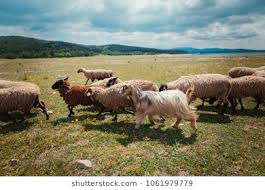sheep: (118, 83, 195, 127), (160, 74, 234, 100), (50, 77, 90, 113), (231, 75, 265, 105), (74, 66, 113, 81)
